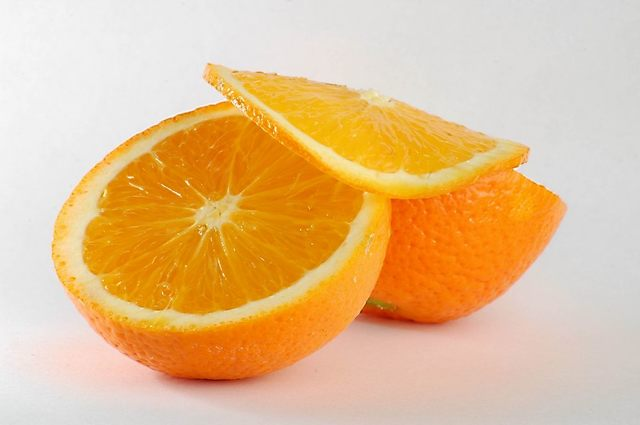orange: (45, 82, 395, 385), (190, 38, 575, 216), (350, 125, 622, 340)
